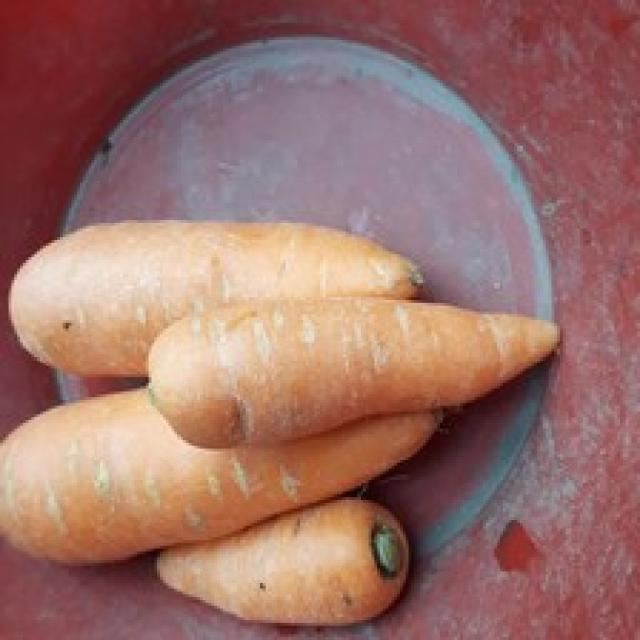Fresh_Carrot: (0, 394, 444, 565), (5, 217, 428, 373), (150, 300, 565, 445), (160, 502, 410, 624)
